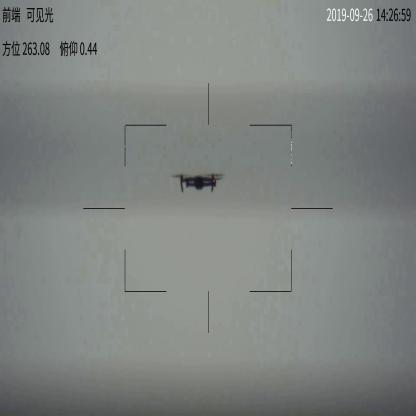uav: (172, 169, 225, 193)
